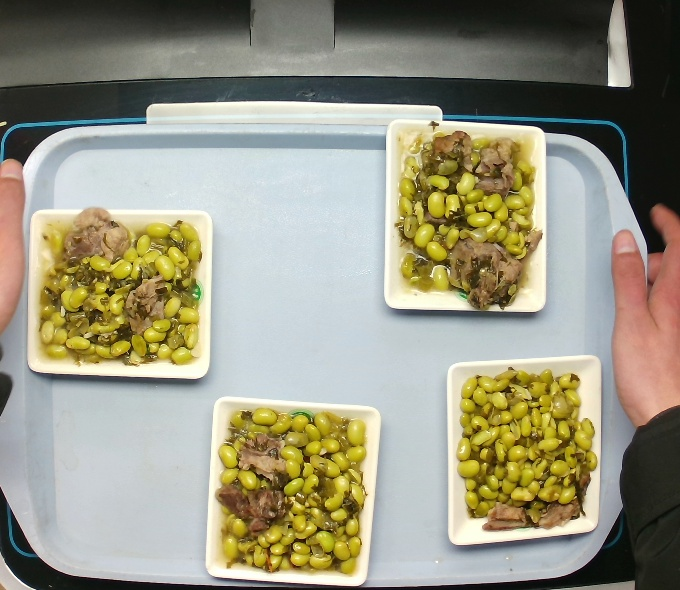wcq-ZhuRouDunDou: (37, 203, 219, 382), (203, 402, 382, 578), (391, 120, 549, 319), (448, 362, 600, 539)
